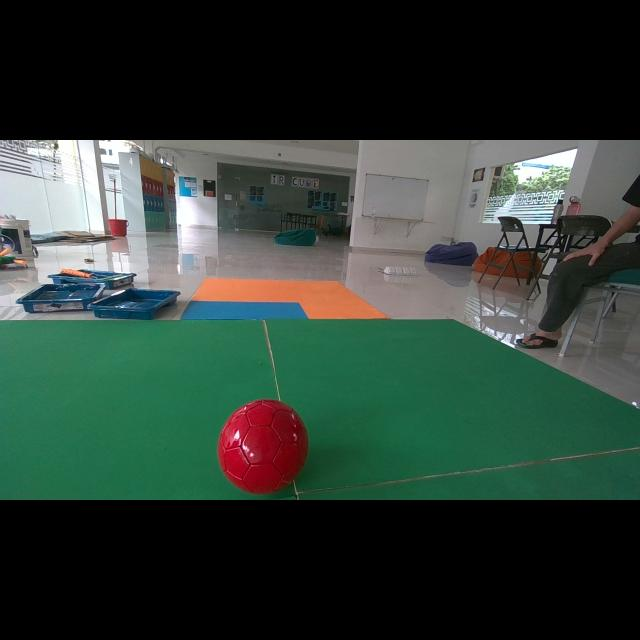R: (218, 399, 309, 495)
